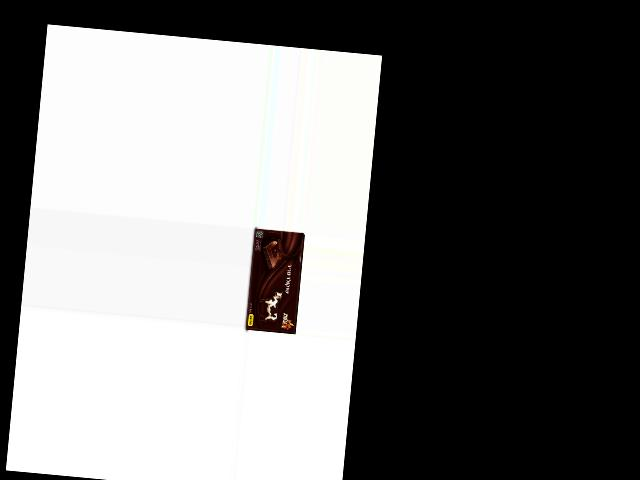chocolate: (244, 229, 305, 336)
